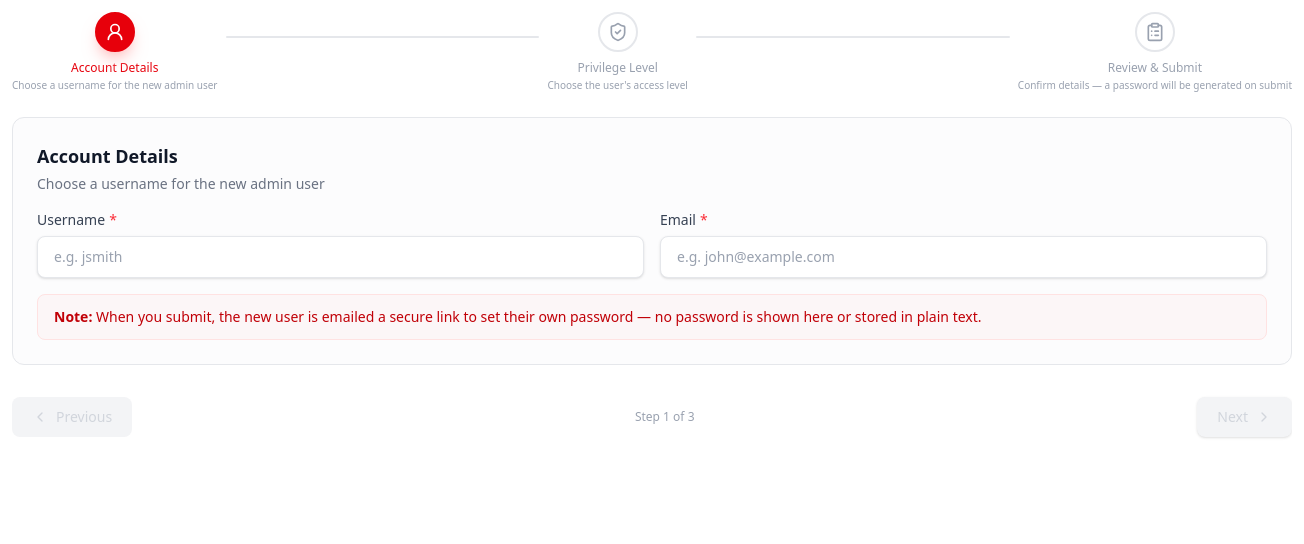
Test: UserForm Component › Step 2 — Privilege Level Selection › advances to step 3 after selecting a role
Type "johndoe" into the field with placeholder "e.g. jsmith" at point(340, 257), box left=37, top=236, right=644, bottom=278
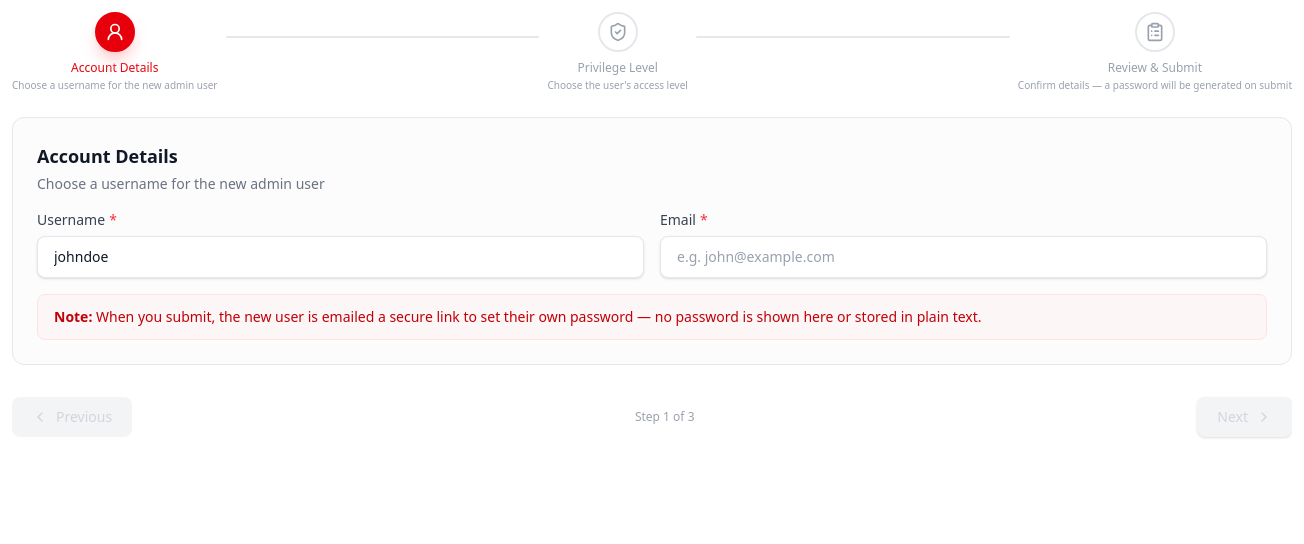
Type "john@example.com" into the field with placeholder "e.g. john@example.com" at point(964, 257), box left=660, top=236, right=1267, bottom=278
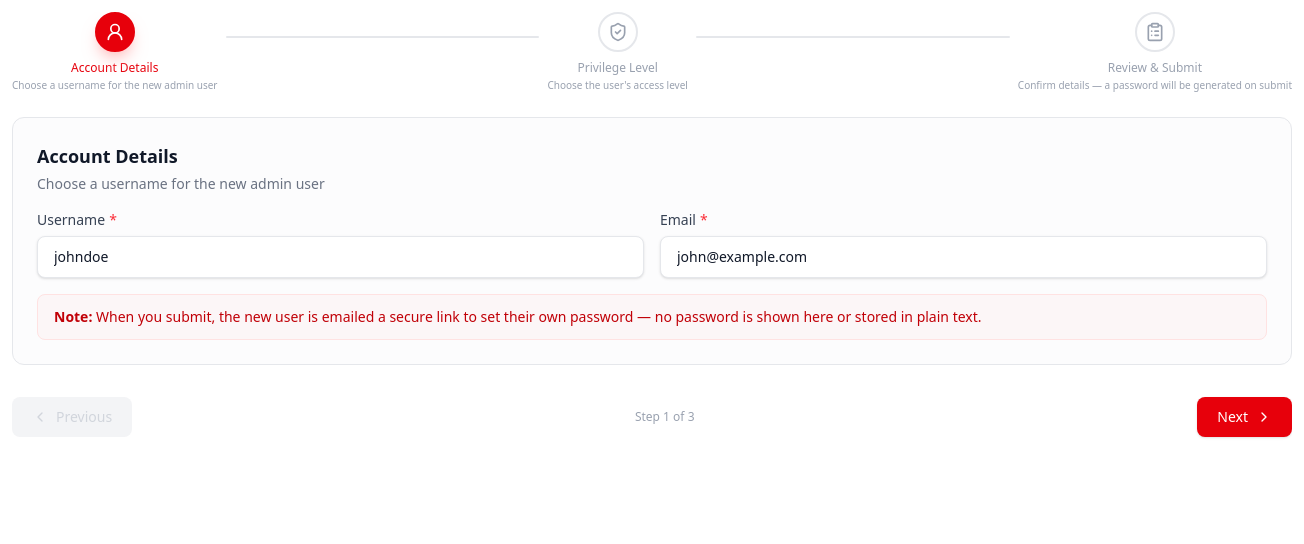
Click the button "Next" at point(1245, 417), box left=1197, top=397, right=1292, bottom=437
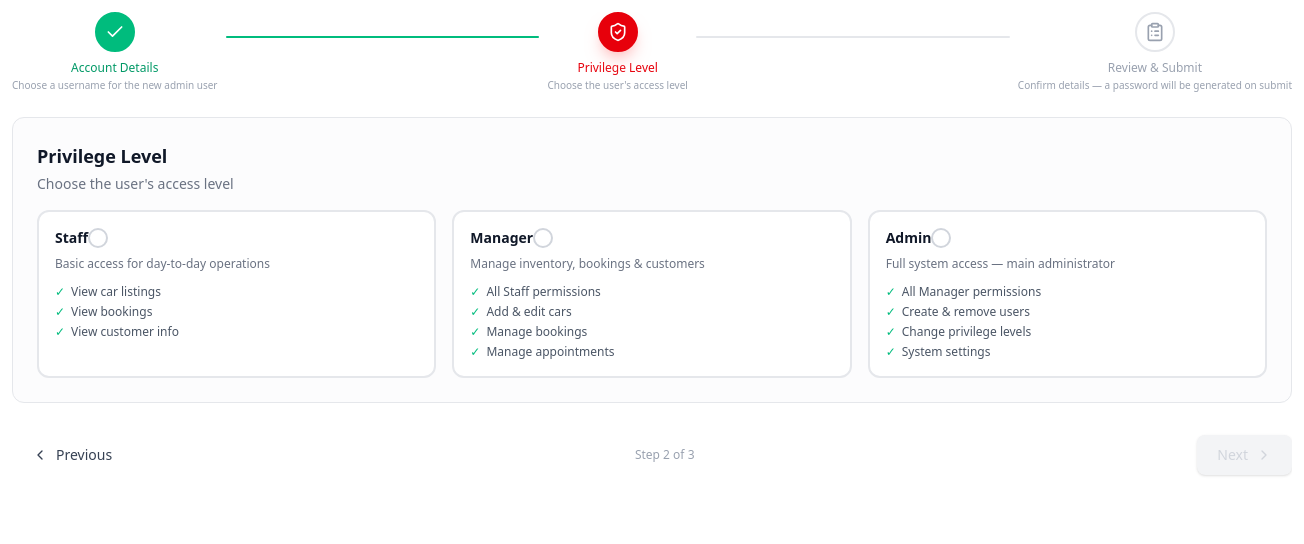
Click the text "Staff" at point(72, 238), box left=55, top=228, right=88, bottom=248
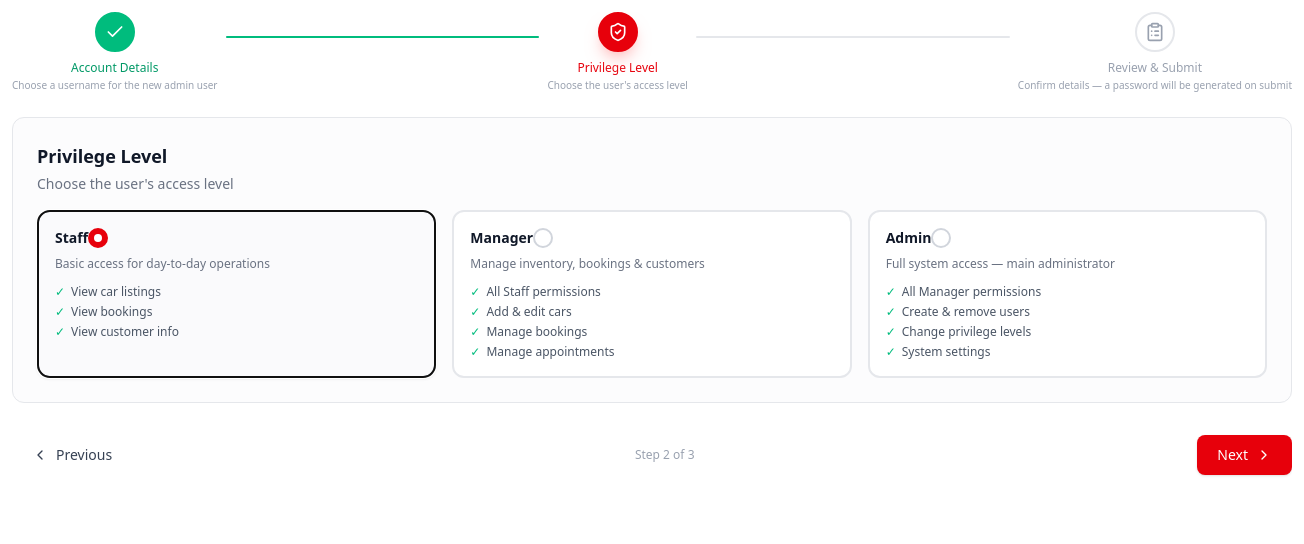
Click the button "Next" at point(1245, 455), box left=1197, top=435, right=1292, bottom=475
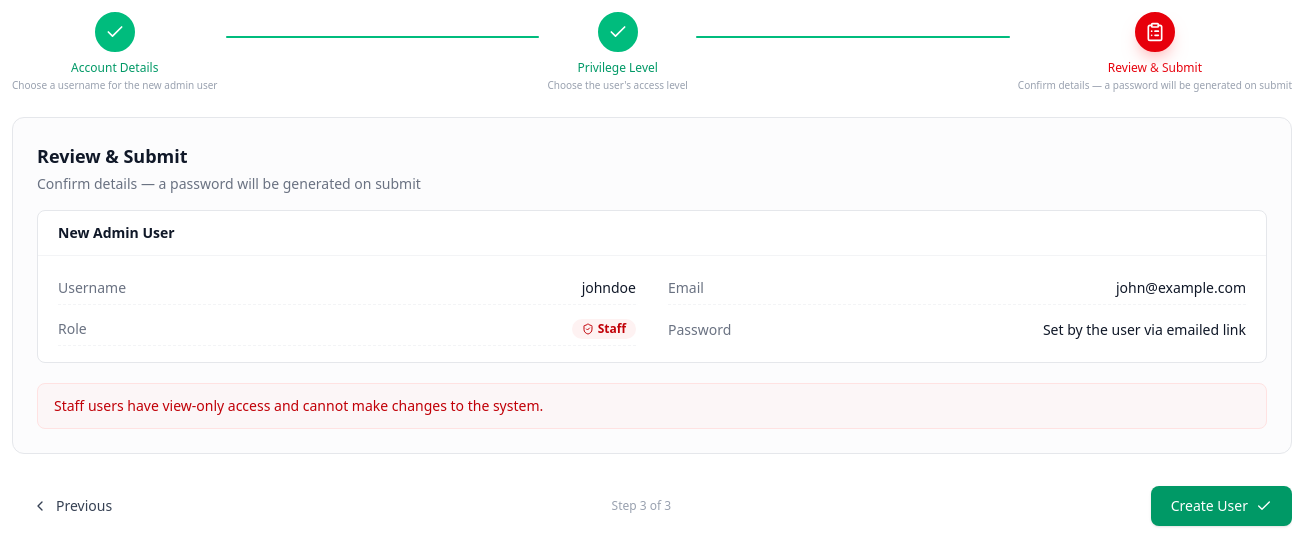
Now the heading "Review & Submit" is shown, box left=37, top=144, right=188, bottom=168
